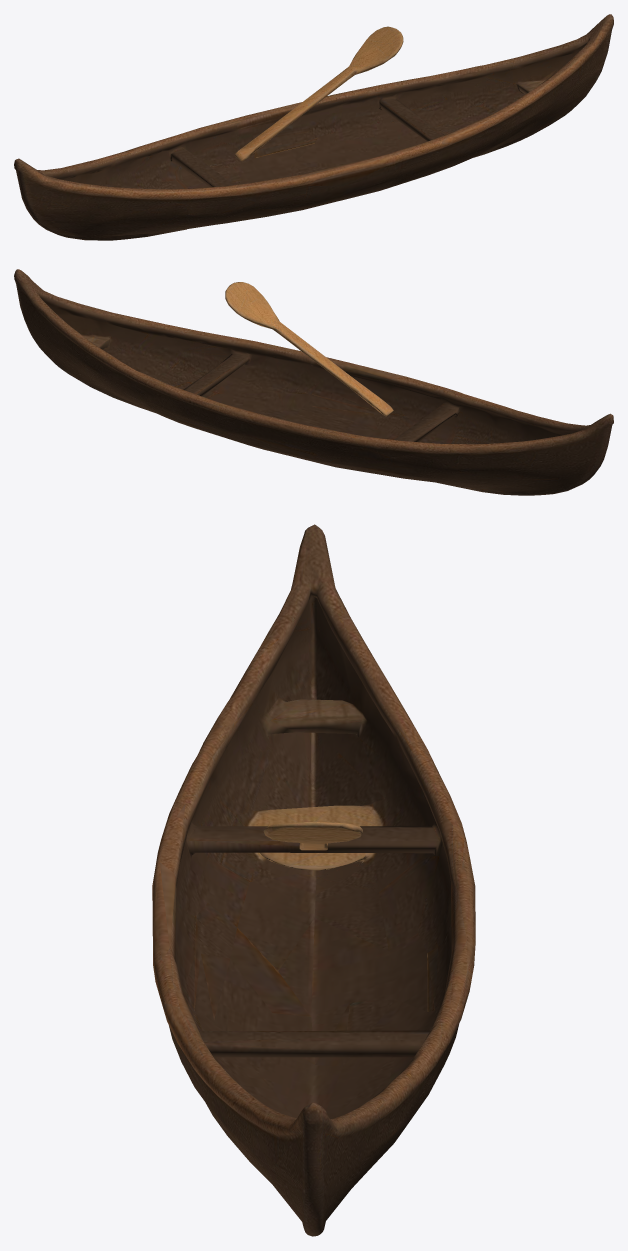
Rendered from canoe.glb.
3 renders of one model, top to bottom at view 1: azimuth 30°, elevation 25°; view 2: azimuth 150°, elevation 25°; view 3: azimuth 270°, elevation 25°, orthographic. The views are drawn at different scales.
Bounding box in the file's own units: 1.9 × 0.4527 × 0.4439.
Materials: 1 (1 with a texture image).
